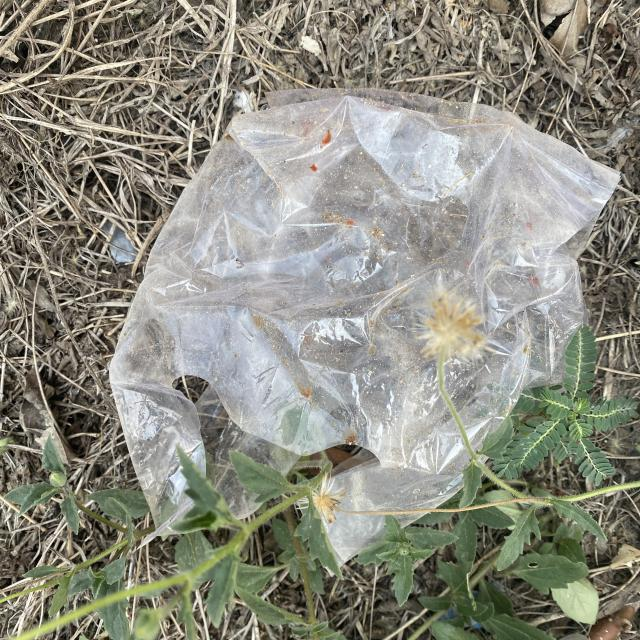Single-layer Plastic: (110, 89, 619, 564)
